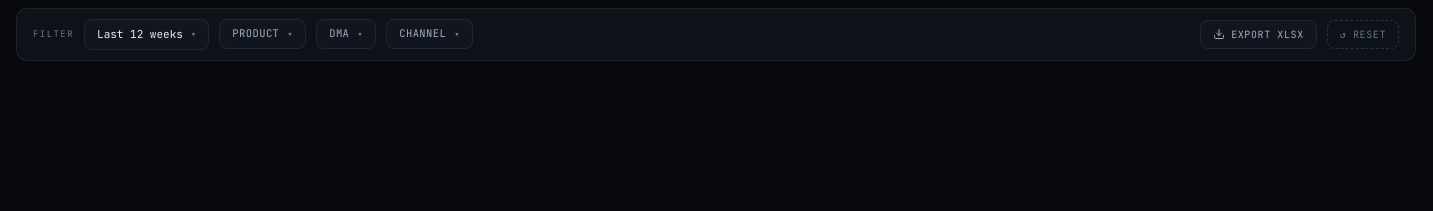
Test: FilterBar interactions › opens date range dropdown on click and selects an option
The width and height of the screenshot is (1433, 211).
// Open the dropdown
Click the button with aria-label "Date range" at (147, 34), box [84,19,209,50]
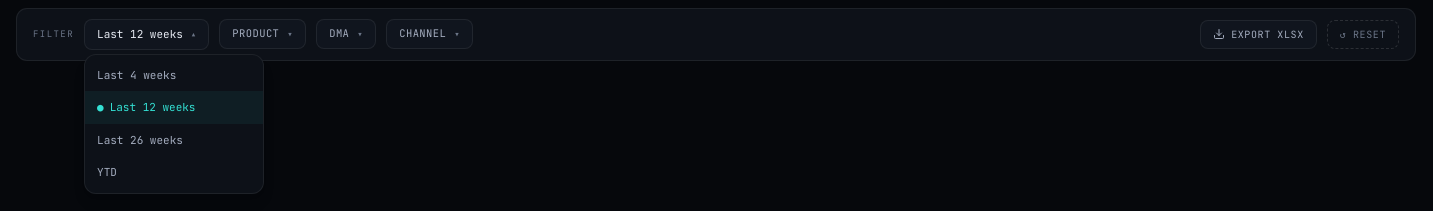
Check: the list named "Date range options" is shown, box [84,54,264,194]
// Select a different option
Click the option "YTD" at (174, 172), box [85,156,263,188]
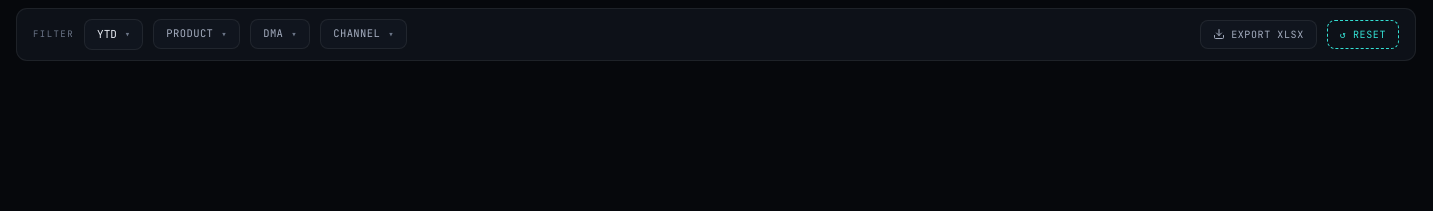
Check: the list is gone
Check: the button with aria-label "Date range" shows "YTD", box [84,19,143,50]
